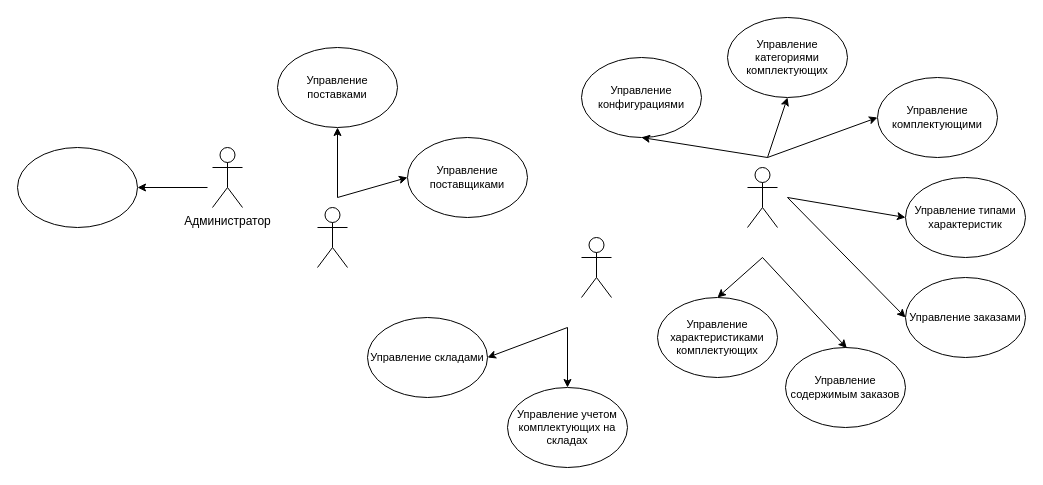
Some shapes in this 1043 by 485 pixel diagram are drawn without their labels. Each missing label, with the box of its shape:
Консультант: (746, 166, 778, 228)
Менеджер по закупкам: (316, 206, 348, 268)
Работник склада: (580, 236, 612, 298)
Управление пользователями: (16, 146, 138, 228)
